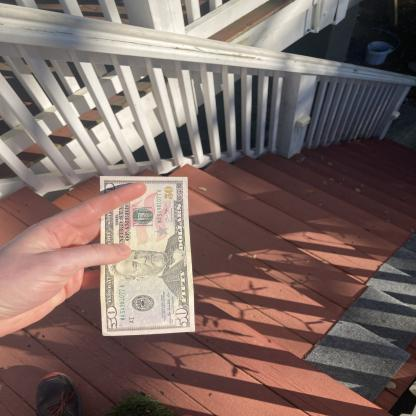fifty-front: (100, 176, 196, 336)
